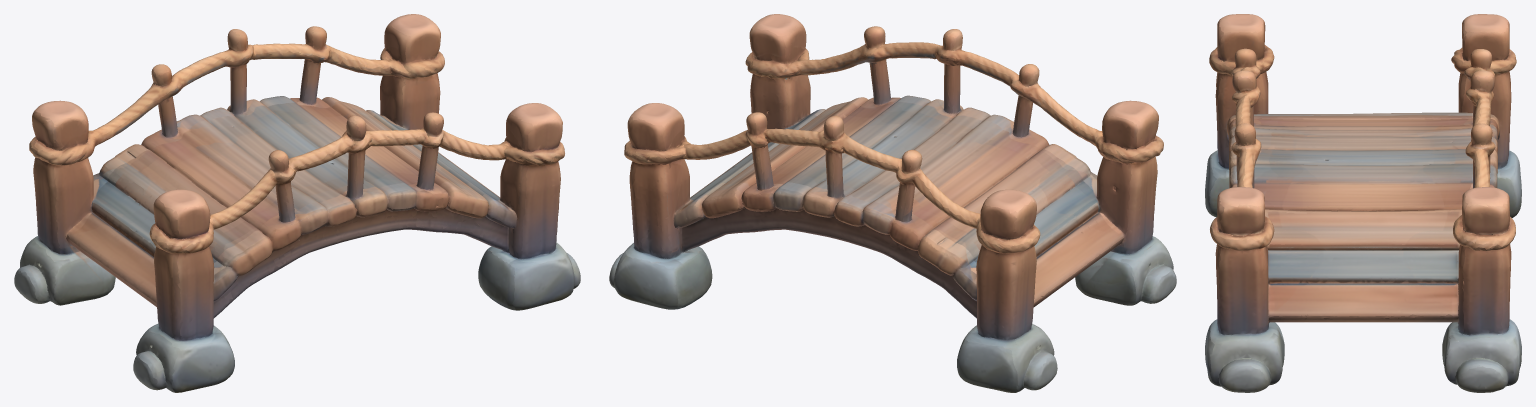
File: bld_bridge_01.glb
3 views of the same model, side by side, from view 1: azimuth 30°, elevation 25°; view 2: azimuth 150°, elevation 25°; view 3: azimuth 270°, elevation 25° (orthographic).
Parts seen in each view (by area): view 1: geometry_0; view 2: geometry_0; view 3: geometry_0.
Part boxes in pixels (x1=…): geometry_0: x1=14, y1=14, x2=580, y2=392; geometry_0: x1=609, y1=14, x2=1176, y2=392; geometry_0: x1=1205, y1=14, x2=1521, y2=392.
Size of the model in its own units: 0.3 by 0.1481 by 0.1907.
Materials: 1 (1 with a texture image).
